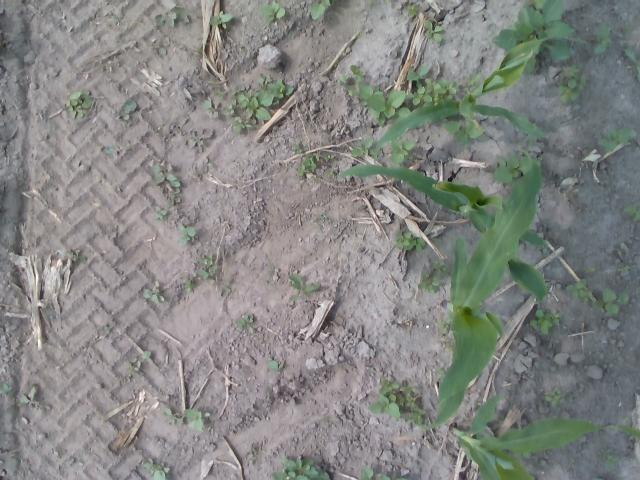Maize: (415, 162, 541, 434), (336, 166, 548, 304), (370, 34, 584, 156), (450, 393, 640, 480)
Weeds: (491, 0, 575, 73), (224, 74, 294, 134), (366, 378, 426, 426), (357, 80, 412, 128), (406, 64, 461, 108), (492, 153, 538, 185), (271, 457, 331, 480), (555, 64, 587, 104), (442, 120, 484, 150), (417, 261, 452, 295), (591, 288, 628, 316), (152, 162, 180, 196), (336, 63, 364, 96), (66, 88, 96, 118), (598, 127, 632, 153), (288, 273, 318, 302), (528, 308, 561, 334), (154, 4, 188, 28), (394, 228, 426, 252), (564, 276, 592, 302), (184, 128, 214, 152), (359, 466, 408, 480), (390, 138, 416, 164), (140, 458, 170, 480), (258, 0, 286, 23), (592, 24, 612, 56), (125, 350, 151, 374), (624, 46, 640, 84), (297, 153, 319, 178), (196, 255, 216, 282), (142, 281, 164, 304), (184, 407, 204, 432), (208, 11, 234, 30), (544, 386, 566, 408), (422, 20, 443, 42), (309, 0, 332, 20), (350, 137, 373, 157), (462, 71, 482, 94), (163, 406, 184, 426), (58, 248, 86, 263), (116, 100, 136, 120), (16, 386, 36, 406), (177, 224, 196, 245), (152, 36, 170, 57), (200, 100, 220, 118), (598, 450, 618, 468), (622, 204, 640, 223), (436, 318, 452, 334), (236, 314, 254, 328), (153, 204, 167, 220), (405, 2, 420, 15), (0, 380, 12, 396), (514, 450, 532, 460), (268, 360, 284, 370), (202, 158, 212, 174), (293, 142, 305, 154), (434, 368, 446, 380), (524, 136, 538, 146), (184, 278, 193, 293), (616, 262, 629, 272), (322, 152, 334, 161), (445, 342, 454, 354), (214, 89, 224, 99), (326, 168, 334, 178), (368, 148, 378, 155), (584, 267, 595, 273), (366, 0, 374, 8), (318, 214, 328, 220), (473, 401, 482, 406), (381, 0, 389, 4)
